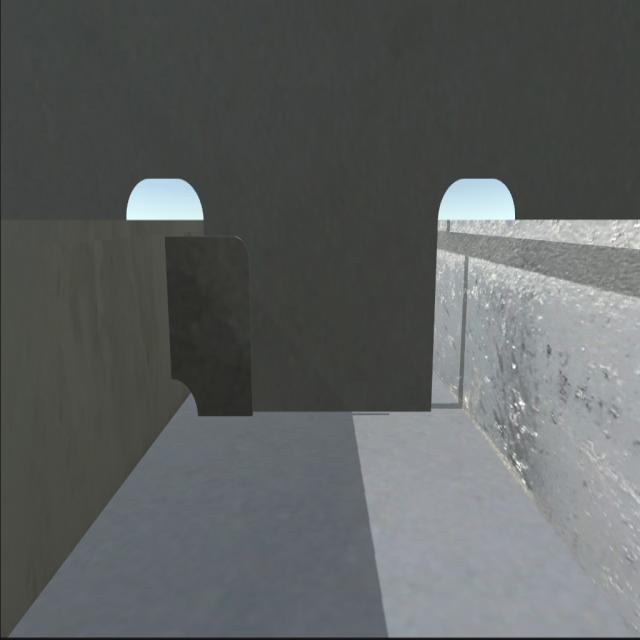fillet_hole: (172, 374, 203, 421)
fillet_yong_jeop_jang: (197, 404, 431, 412)
longi_yong_jeop_jang: (155, 232, 182, 376)
plate_CP05: (158, 228, 266, 418)
